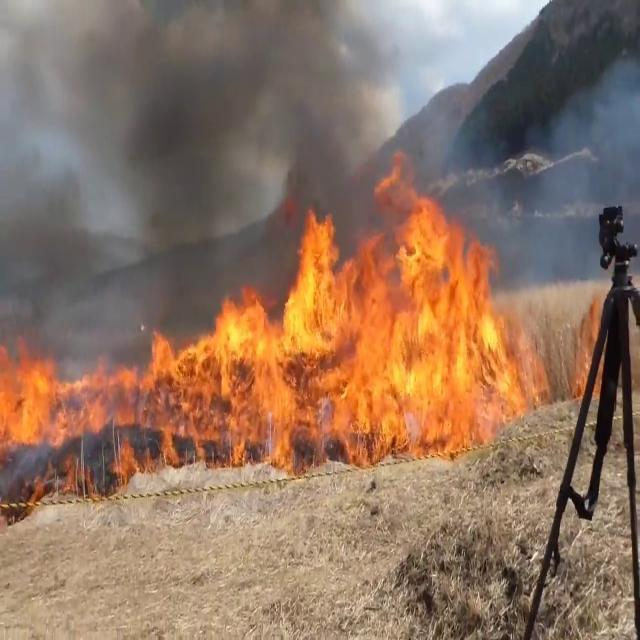Fire: (1, 162, 540, 452)
Smoke: (0, 0, 430, 313)
